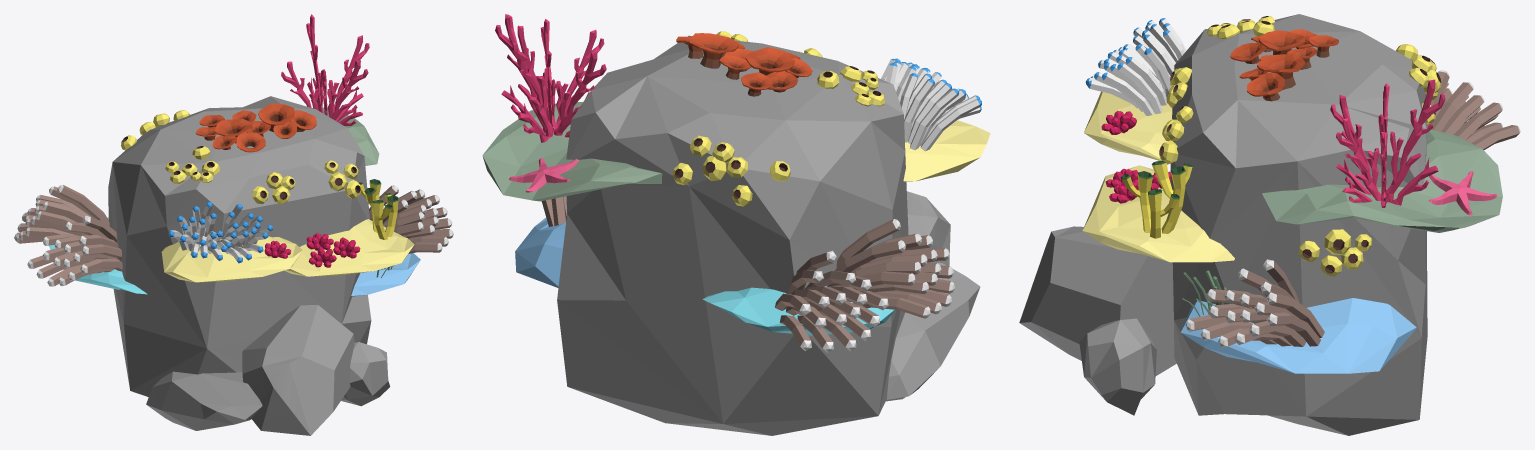
Rendered from Coral_reef_016.fbx.
3 renders of one model, left to right at view 1: azimuth 30°, elevation 25°; view 2: azimuth 150°, elevation 25°; view 3: azimuth 270°, elevation 25°, orthographic. The views are drawn at different scales.
Visible parts, largest first — view 1: Coral_reef_016; view 2: Coral_reef_016; view 3: Coral_reef_016.
Boxes of the visible parts, x1,y1,x2,y2 form: Coral_reef_016: (14, 14, 453, 435); Coral_reef_016: (482, 14, 990, 435); Coral_reef_016: (1019, 14, 1520, 435).
Bounding box in the file's own units: 557 × 505 × 435.
Materials: 1 (1 with a texture image).
